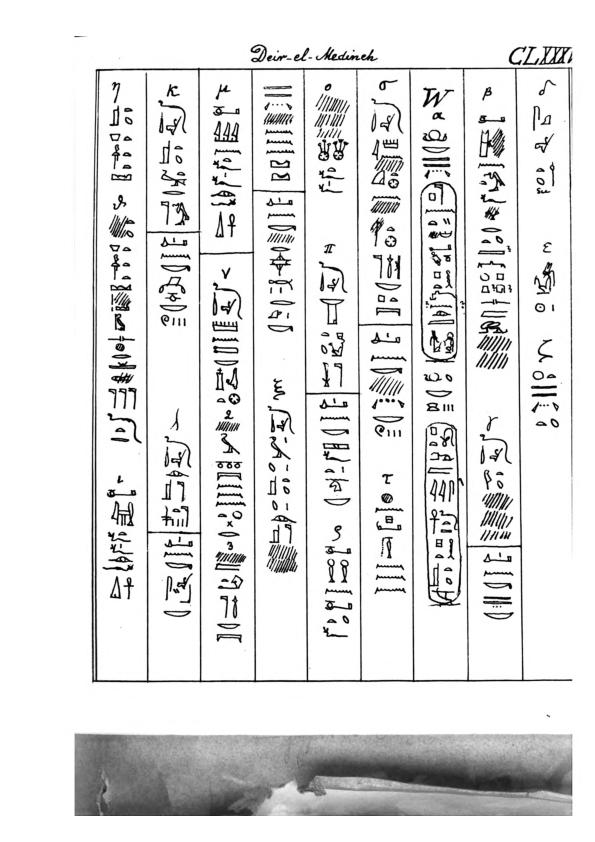circle: (419, 180, 461, 365), (423, 420, 462, 609)
